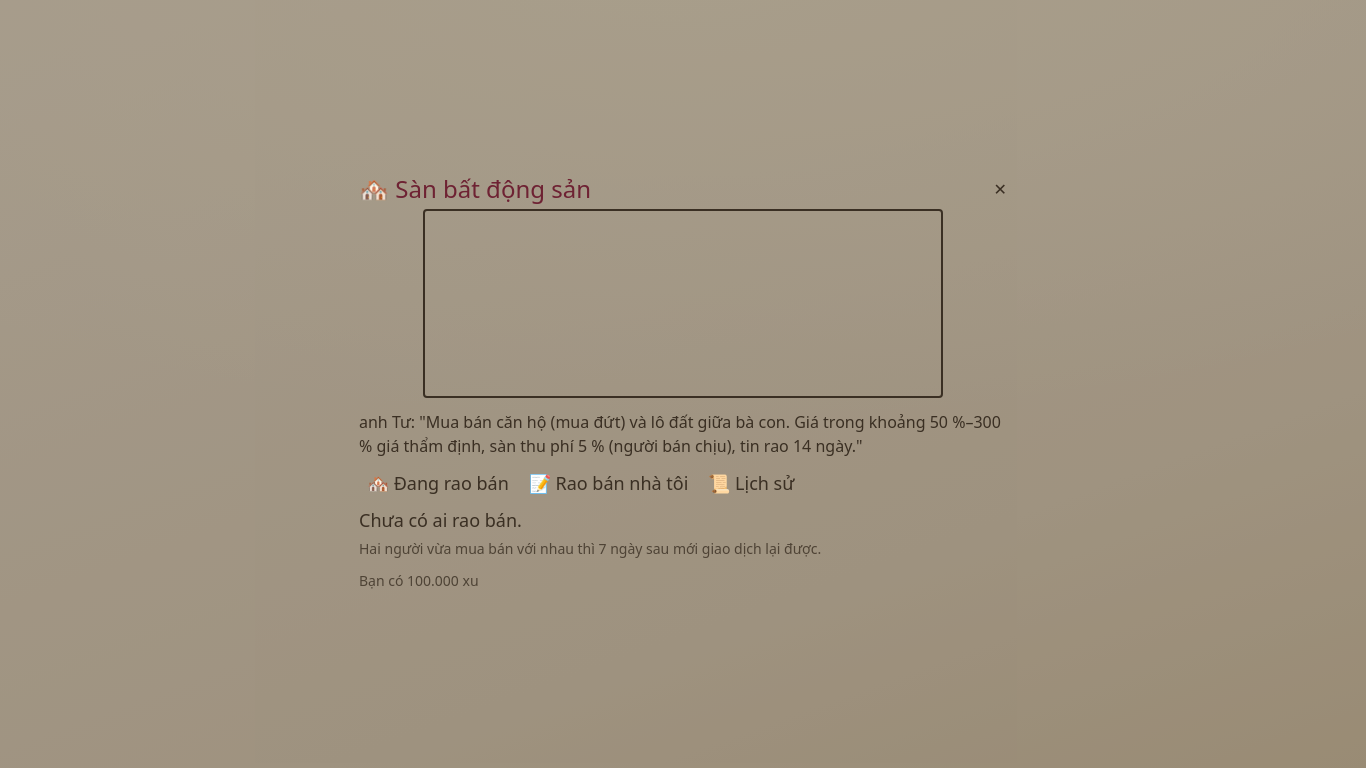
Test: EstateModal › my listing can be taken down; a cooldown is shown
Click the tab "📝 Rao bán nhà tôi" at (609, 484), box [521,470,696,497]
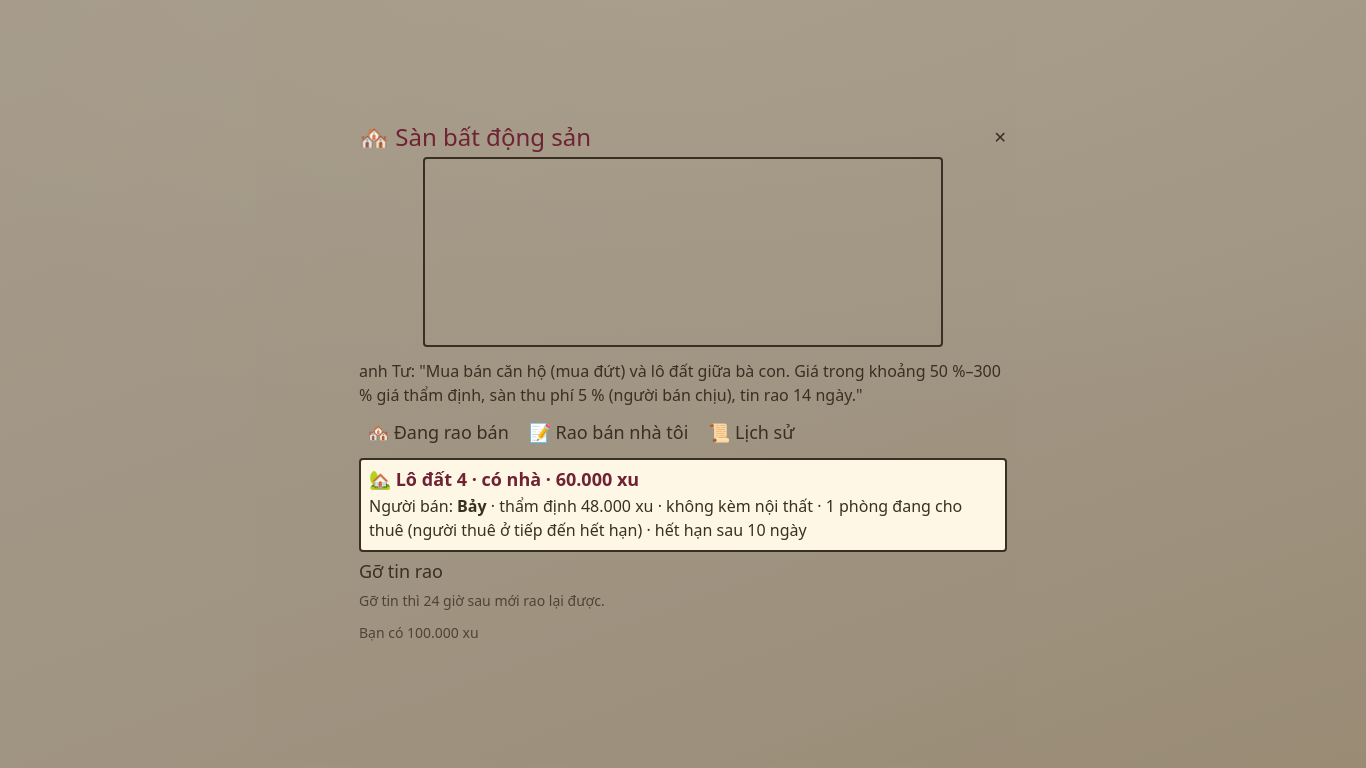
Click the button "Gỡ tin rao" at (401, 571), box [359,560,443,583]
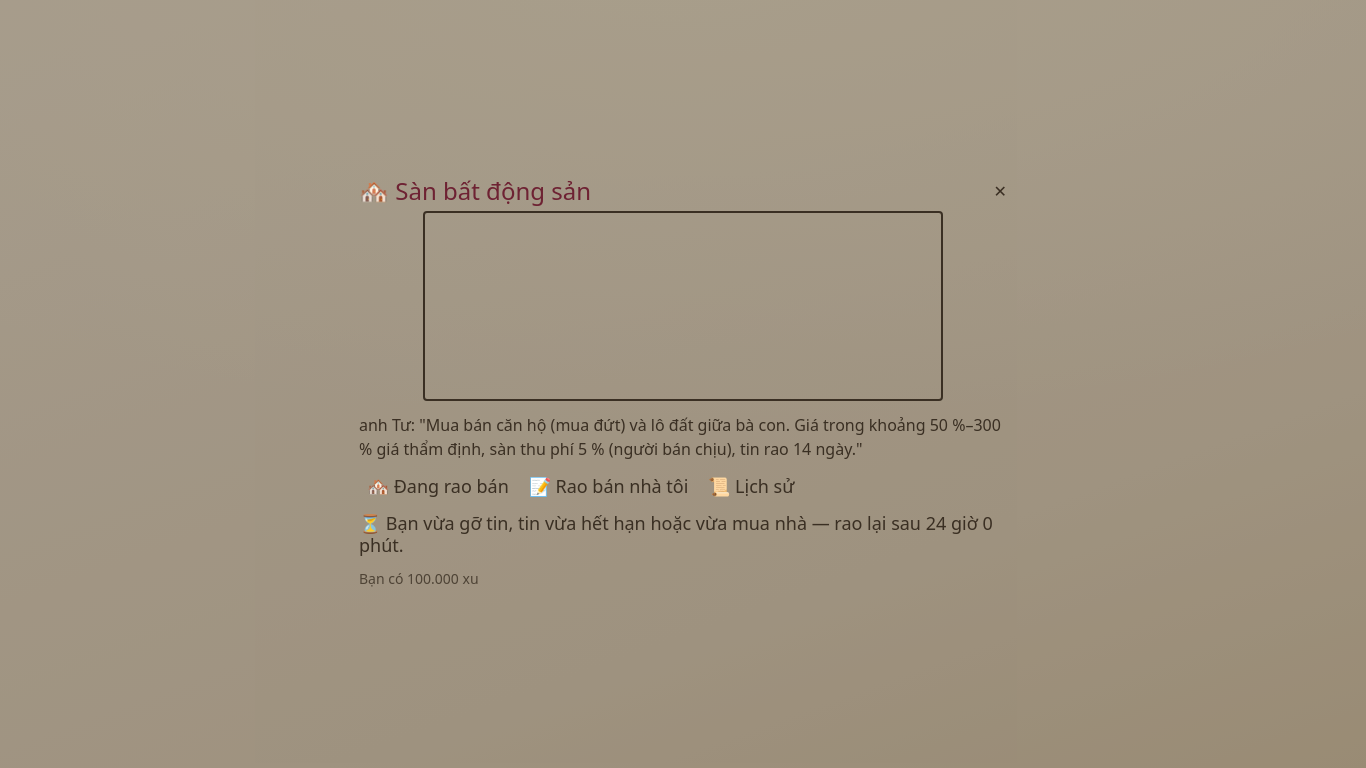
Expected: the text "rao lại sau" is shown, [359,511,926,535]
